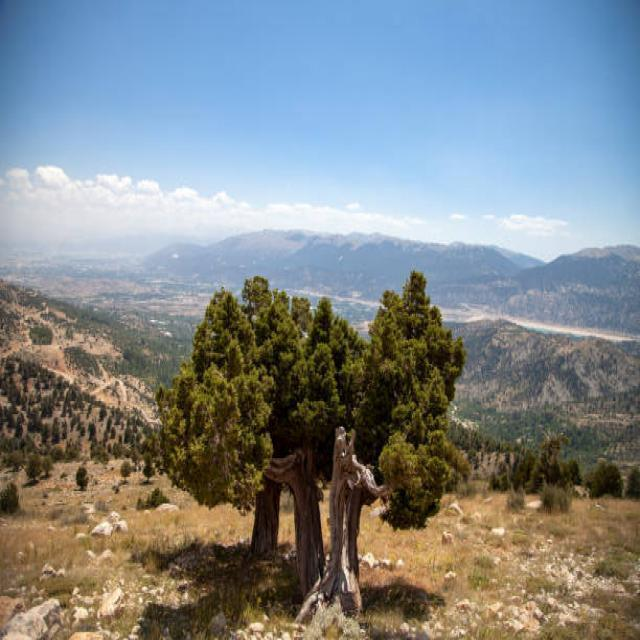tree: (158, 272, 462, 558)
